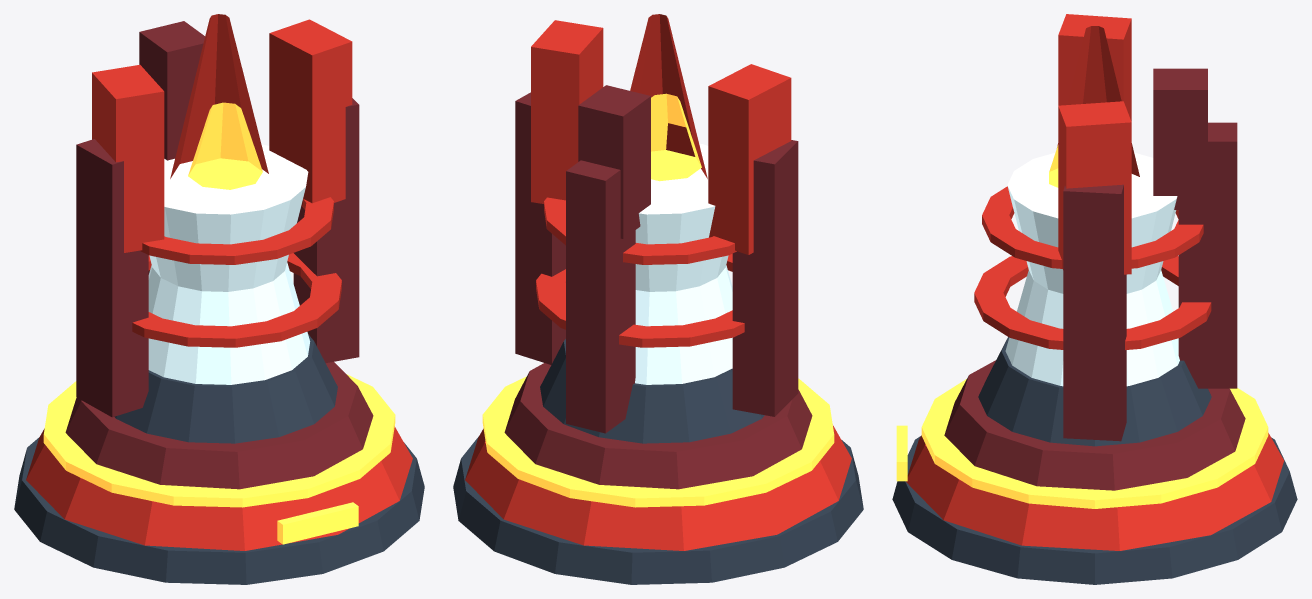
File: king_red.glb
3 views of the same model, side by side, from view 1: azimuth 30°, elevation 25°; view 2: azimuth 150°, elevation 25°; view 3: azimuth 270°, elevation 25° (orthographic). The views are drawn at different scales.
Visible parts, largest first — view 1: king_red_Crown_Cage, king_red_Base_Lower, king_red_Base_Armor, king_red_Base_Deck, king_red_Core_Upper, king_red_Crown_Right, king_red_Core_Cradle, king_red_Core_Lower, king_red_Base_Light_Ring, king_red_Crown_Left, king_red_Halo_Lower, king_red_Crown_Center (+4 smaller); view 2: king_red_Crown_Cage, king_red_Base_Armor, king_red_Base_Lower, king_red_Base_Deck, king_red_Crown_Left, king_red_Base_Light_Ring, king_red_Crown_Right, king_red_Core_Cradle, king_red_Core_Lower, king_red_Rear_Crown, king_red_Core_Upper, king_red_Crown_Center (+3 smaller); view 3: king_red_Crown_Cage, king_red_Base_Armor, king_red_Base_Deck, king_red_Base_Lower, king_red_Core_Cradle, king_red_Base_Light_Ring, king_red_Core_Upper, king_red_Rear_Crown, king_red_Crown_Right, king_red_Core_Lower, king_red_Halo_Lower, king_red_Halo_Upper (+3 smaller).
Boxes of the visible parts, bbox=[...] form: king_red_Crown_Cage: bbox=[76, 98, 359, 417]; king_red_Base_Lower: bbox=[14, 437, 424, 584]; king_red_Base_Armor: bbox=[26, 426, 412, 550]; king_red_Base_Deck: bbox=[65, 362, 373, 489]; king_red_Core_Upper: bbox=[149, 144, 308, 291]; king_red_Crown_Right: bbox=[269, 19, 352, 205]; king_red_Core_Cradle: bbox=[114, 334, 337, 443]; king_red_Core_Lower: bbox=[148, 262, 310, 384]; king_red_Base_Light_Ring: bbox=[43, 374, 395, 507]; king_red_Crown_Left: bbox=[92, 65, 164, 252]; king_red_Halo_Lower: bbox=[132, 253, 341, 347]; king_red_Crown_Center: bbox=[170, 14, 268, 178]; king_red_Crown_Cage: bbox=[515, 92, 798, 433]; king_red_Base_Armor: bbox=[465, 425, 851, 550]; king_red_Base_Lower: bbox=[453, 436, 863, 584]; king_red_Base_Deck: bbox=[504, 363, 812, 489]; king_red_Crown_Left: bbox=[708, 64, 791, 254]; king_red_Base_Light_Ring: bbox=[482, 376, 834, 507]; king_red_Crown_Right: bbox=[531, 20, 603, 203]; king_red_Core_Cradle: bbox=[540, 339, 764, 443]; king_red_Core_Lower: bbox=[635, 265, 732, 384]; king_red_Rear_Crown: bbox=[578, 85, 650, 238]; king_red_Core_Upper: bbox=[635, 143, 728, 291]; king_red_Crown_Center: bbox=[630, 14, 707, 178]; king_red_Crown_Cage: bbox=[1063, 122, 1237, 441]; king_red_Base_Armor: bbox=[906, 433, 1284, 550]; king_red_Base_Deck: bbox=[944, 360, 1245, 490]; king_red_Base_Lower: bbox=[892, 436, 1297, 584]; king_red_Core_Cradle: bbox=[978, 337, 1211, 446]; king_red_Base_Light_Ring: bbox=[921, 379, 1268, 508]; king_red_Core_Upper: bbox=[1007, 152, 1177, 293]; king_red_Rear_Crown: bbox=[1153, 68, 1207, 209]; king_red_Crown_Right: bbox=[1058, 101, 1131, 274]; king_red_Core_Lower: bbox=[1005, 270, 1179, 386]; king_red_Halo_Lower: bbox=[974, 256, 1211, 349]; king_red_Halo_Upper: bbox=[982, 186, 1203, 268].
Size of the model in its own units: 1.04 by 1.33 by 1.04.
